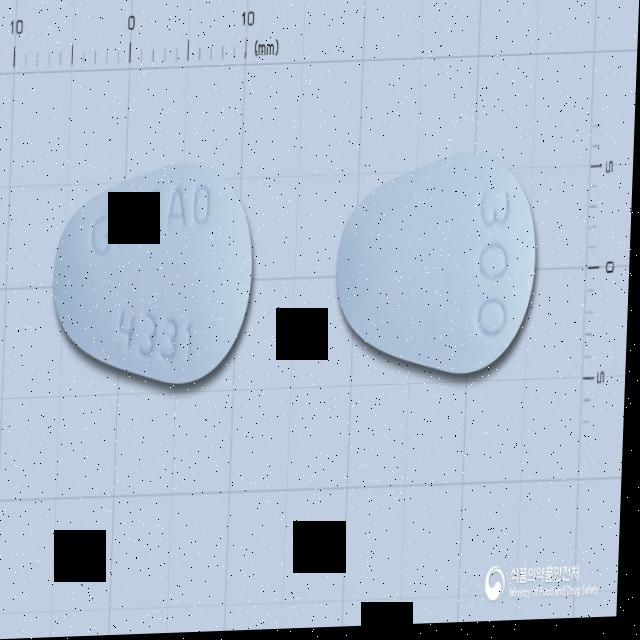Clarithin: (336, 154, 541, 381), (53, 164, 259, 388)
